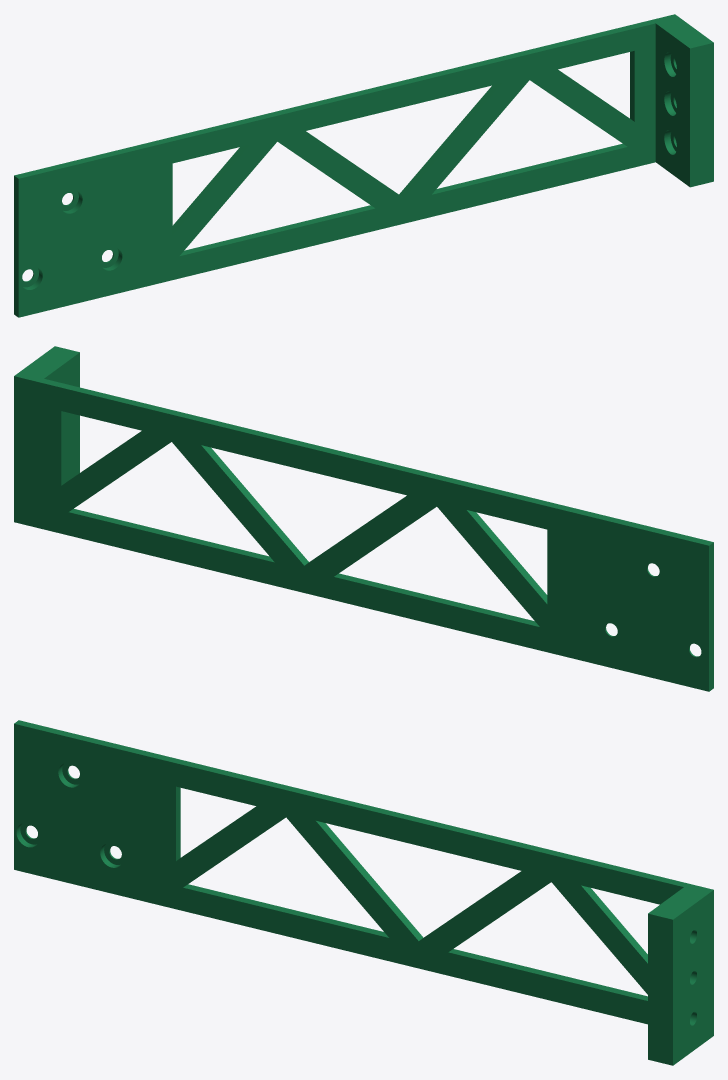
The model's file is .rear_tie_left_half.step.glb.
3 views of the same model, one above another, from view 1: azimuth 30°, elevation 25°; view 2: azimuth 150°, elevation 25°; view 3: azimuth 330°, elevation 25° (orthographic). The views are drawn at different scales.
Parts seen in each view (by area): view 1: o1; view 2: o1; view 3: o1.
Boxes of the visible parts, box(x1,y1,x2,y2) form: o1: box(14, 14, 713, 317); o1: box(14, 346, 713, 691); o1: box(14, 720, 713, 1065).
Bounding box in the file's own units: 0.249 × 0.05 × 0.0254.
